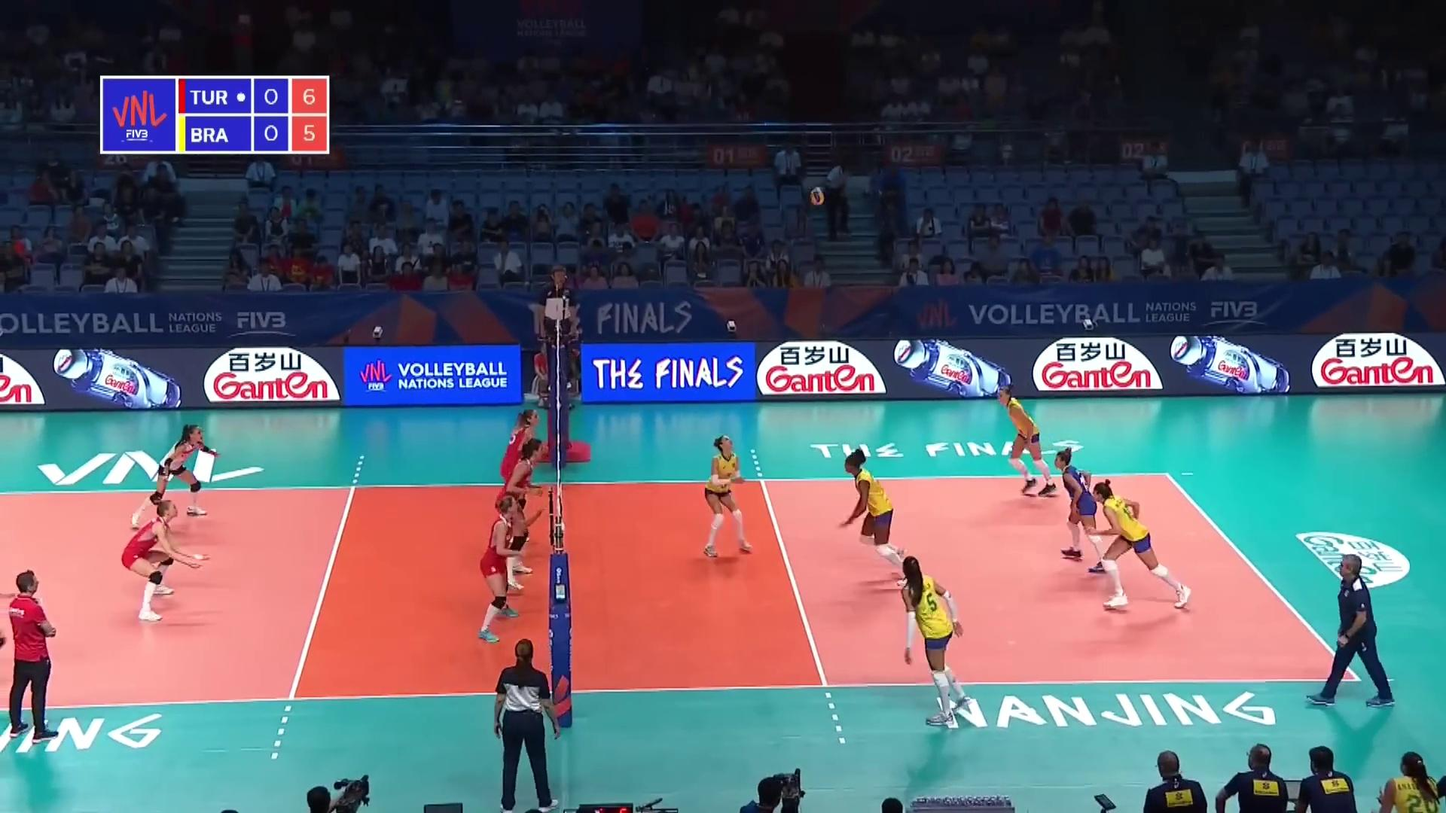player: (1088, 481, 1191, 612), (901, 556, 970, 728), (836, 453, 919, 593), (121, 504, 209, 626), (136, 425, 222, 529), (994, 381, 1056, 507), (699, 435, 756, 560), (498, 438, 544, 590), (498, 407, 544, 548), (1055, 449, 1108, 568), (481, 496, 519, 641)
refree: (493, 640, 564, 806), (537, 267, 580, 394)
